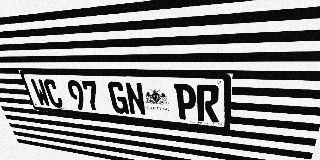7: (80, 80, 103, 112)
9: (66, 80, 88, 110)
C: (42, 79, 64, 108)
G: (107, 81, 129, 114)
N: (124, 82, 147, 116)
P: (174, 84, 197, 121)
R: (196, 84, 220, 123)
W: (30, 79, 52, 107)
